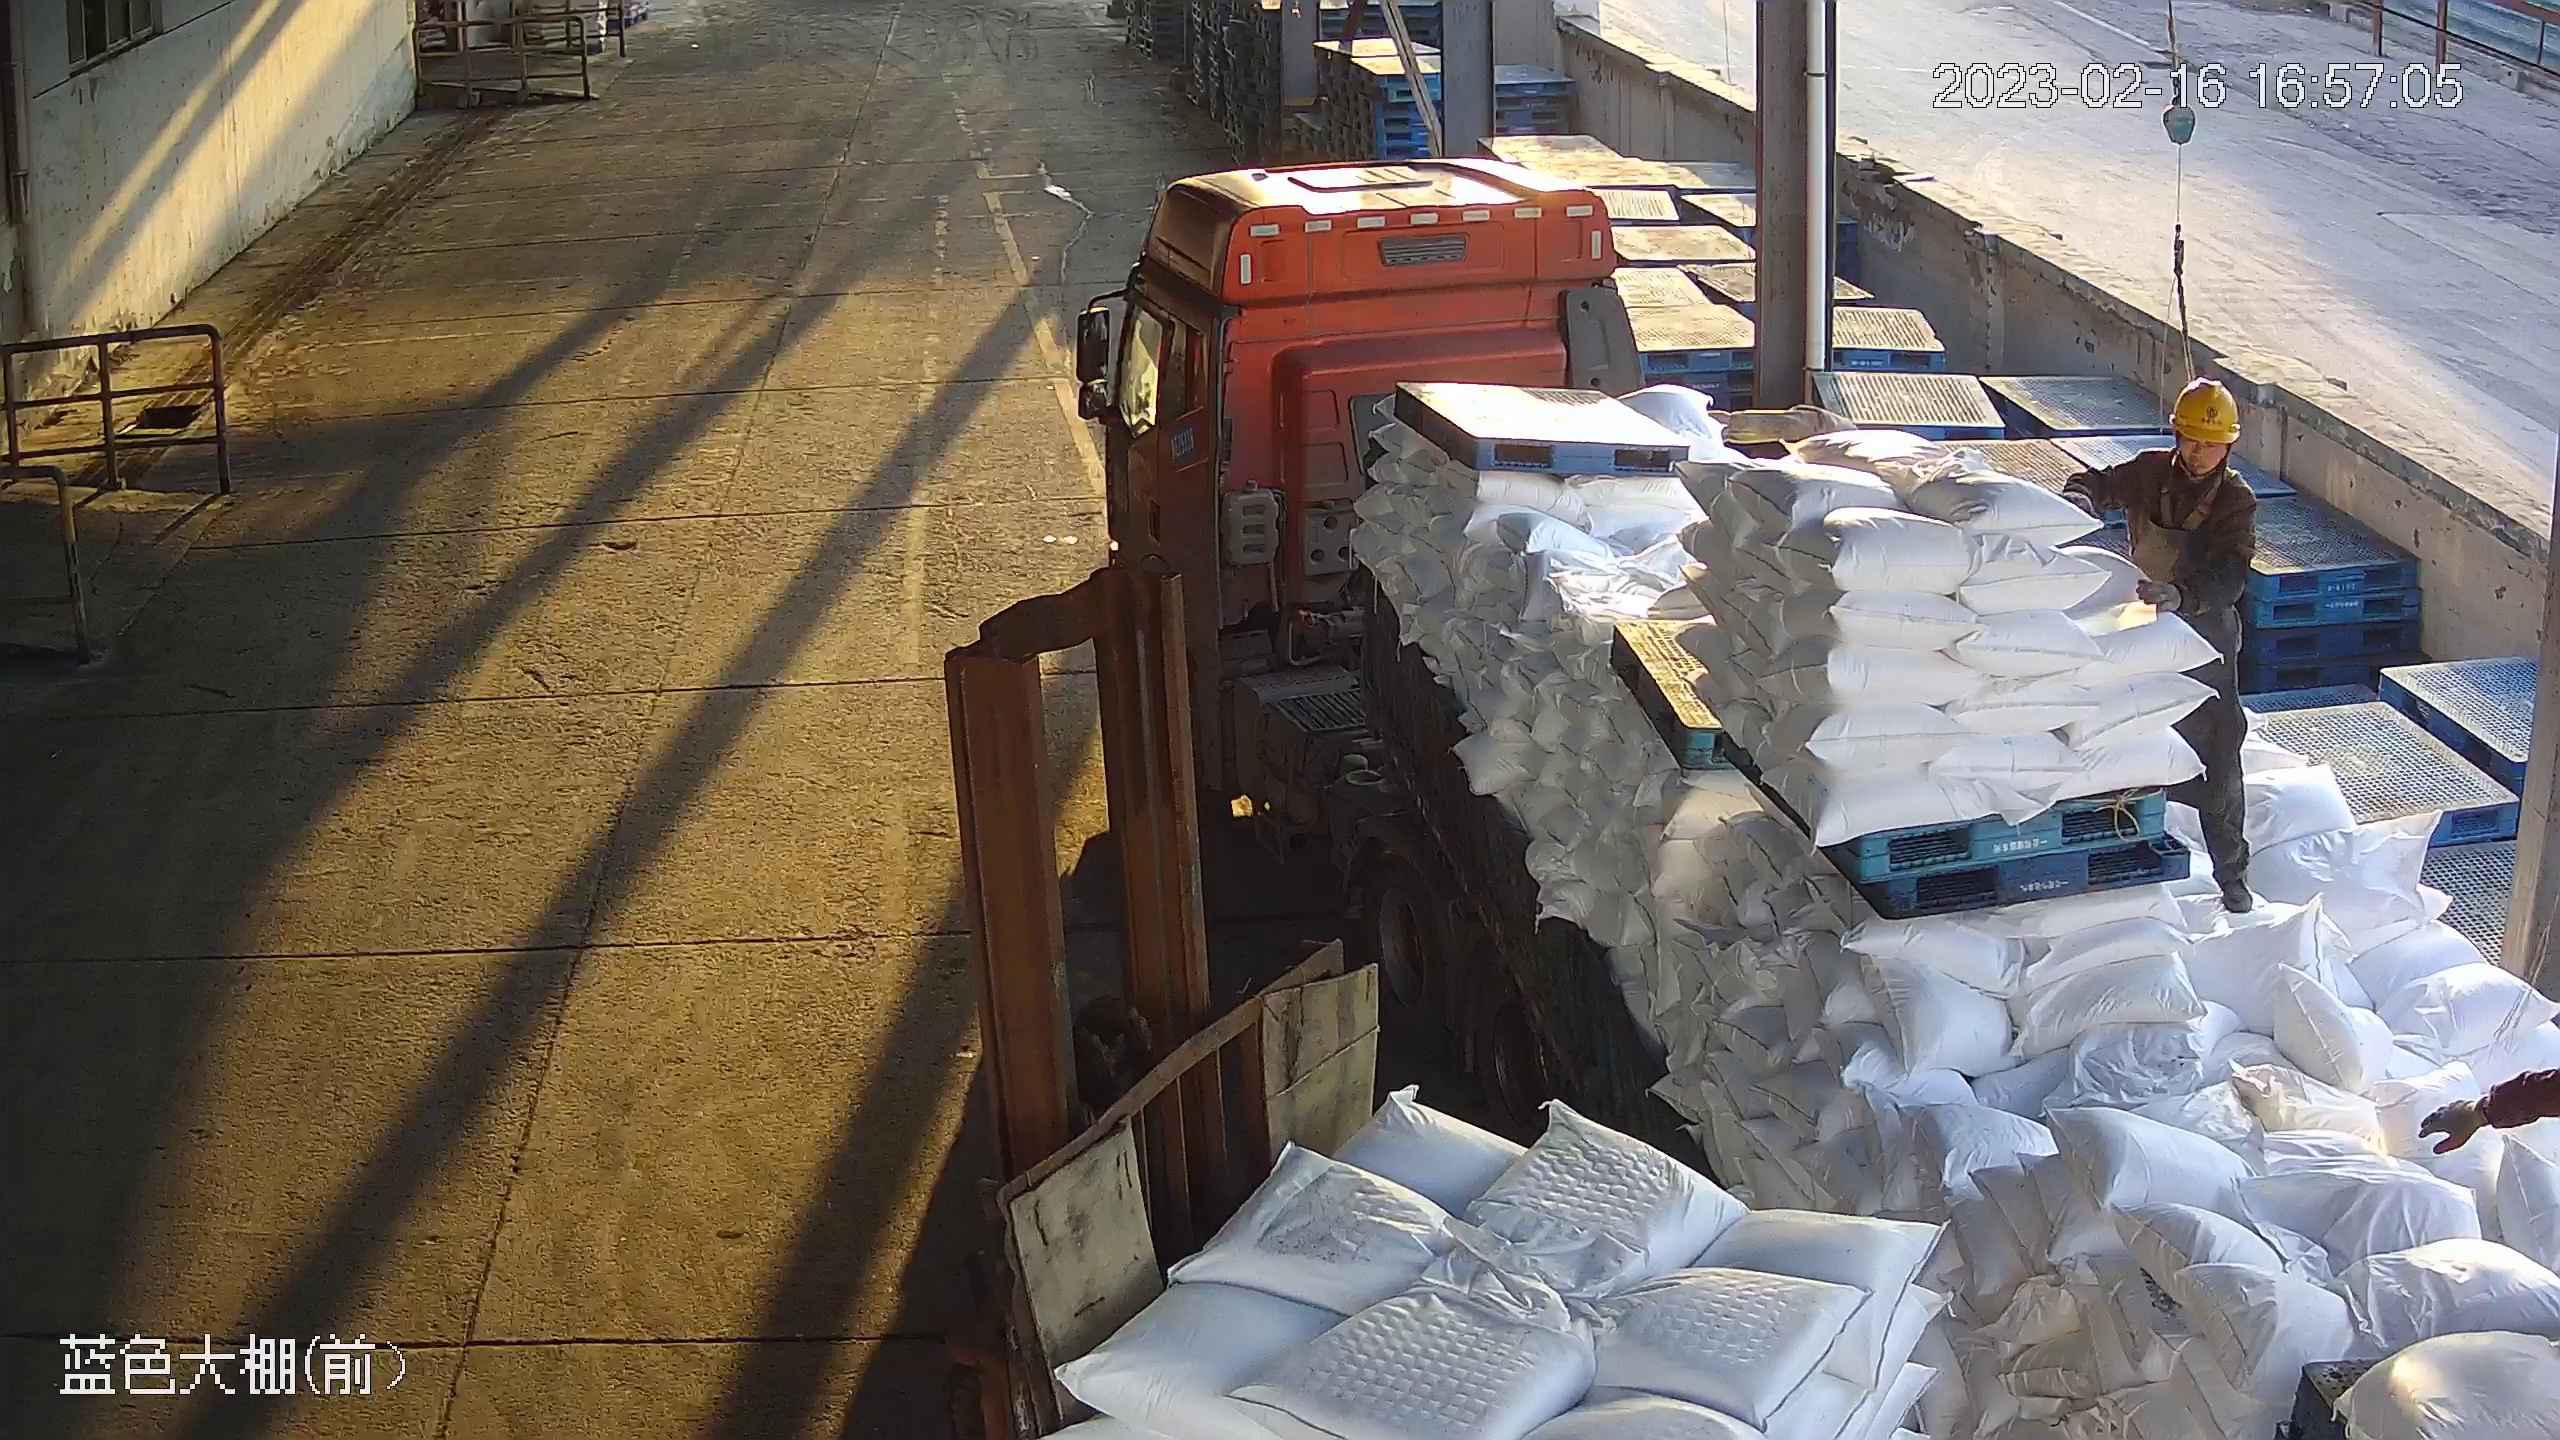belt: (2153, 449, 2220, 541)
head: (2109, 377, 2261, 532)
helmet: (2164, 373, 2246, 453)
people: (2114, 376, 2275, 906)
truck: (1081, 160, 2560, 1440)
